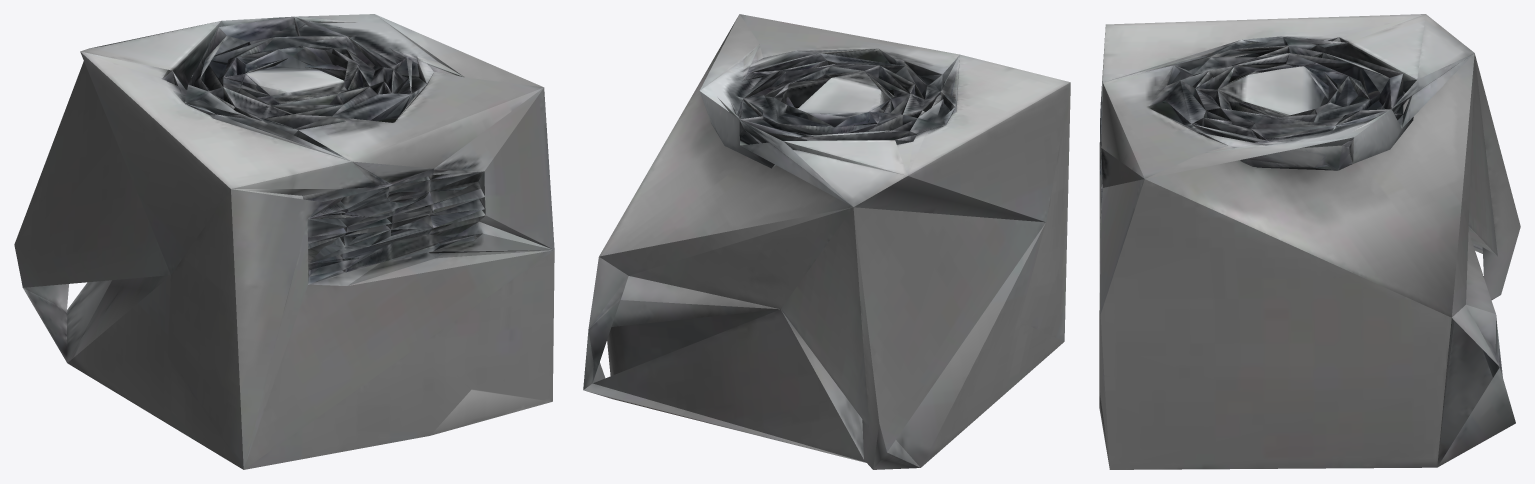
Rendered from m2AcUnit.glb.
3 renders of one model, left to right at view 1: azimuth 30°, elevation 25°; view 2: azimuth 150°, elevation 25°; view 3: azimuth 270°, elevation 25°, orthographic. The views are drawn at different scales.
Visible parts, largest first — view 1: model; view 2: model; view 3: model.
Boxes of the visible parts, box(x1,y1,x2,y2) form: model: box(14, 14, 554, 469); model: box(583, 14, 1070, 469); model: box(1099, 14, 1520, 469).
Bounding box in the file's own units: 1.79 × 1.52 × 1.9.
Materials: 1 (1 with a texture image).
